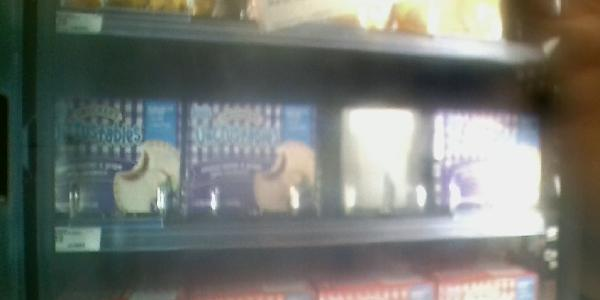icecream: (184, 94, 323, 223), (54, 86, 182, 226), (431, 105, 544, 216)
